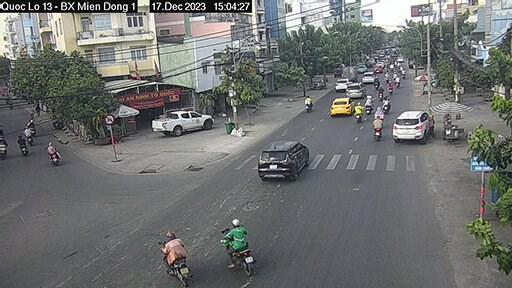car: (252, 139, 303, 186), (150, 110, 208, 138), (395, 107, 428, 141), (329, 97, 353, 118), (345, 81, 364, 98), (336, 76, 345, 91)
motorbike: (211, 212, 257, 275), (153, 224, 198, 282), (371, 114, 384, 133)
